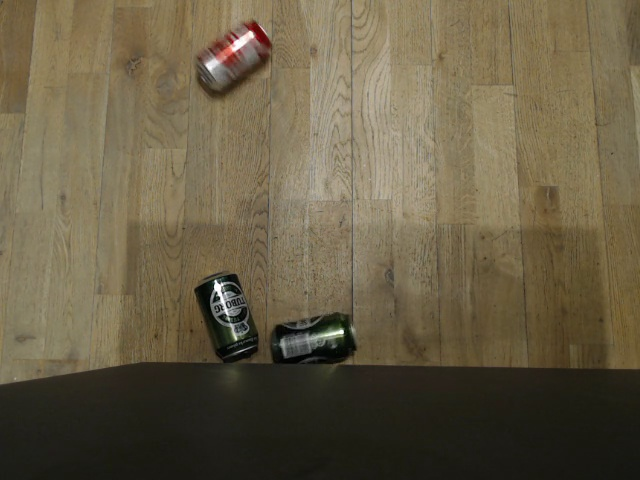beer: (192, 265, 258, 364), (264, 310, 357, 365)
cola: (197, 20, 275, 94)
